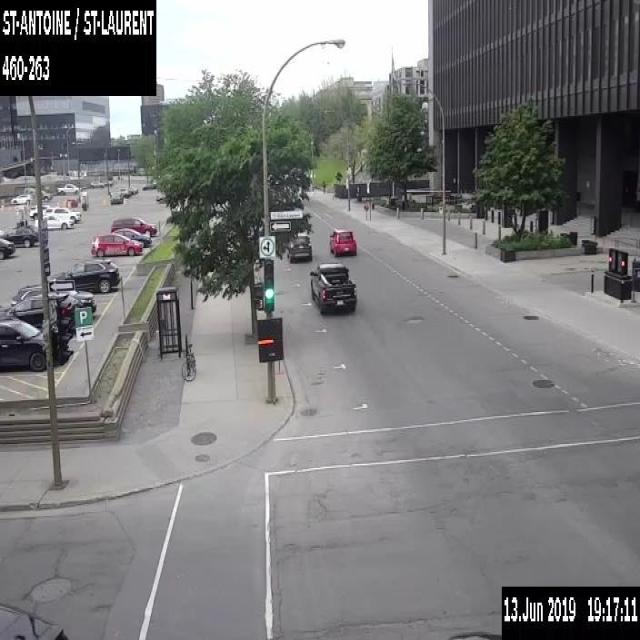pedestrian: (322, 180, 325, 193)
vehicle: (0, 290, 78, 330), (309, 261, 356, 316), (10, 283, 96, 313), (0, 316, 46, 370), (49, 258, 120, 292), (90, 232, 142, 255), (0, 224, 39, 247), (110, 217, 156, 236), (110, 227, 152, 246), (328, 230, 356, 258), (33, 212, 74, 230), (288, 234, 312, 262), (42, 206, 81, 222), (181, 343, 195, 380), (24, 186, 52, 200), (0, 237, 15, 259), (29, 203, 49, 219), (57, 182, 81, 194), (10, 192, 30, 205), (110, 190, 123, 203), (117, 186, 130, 197), (90, 180, 104, 188), (127, 185, 137, 194), (101, 178, 113, 185)
